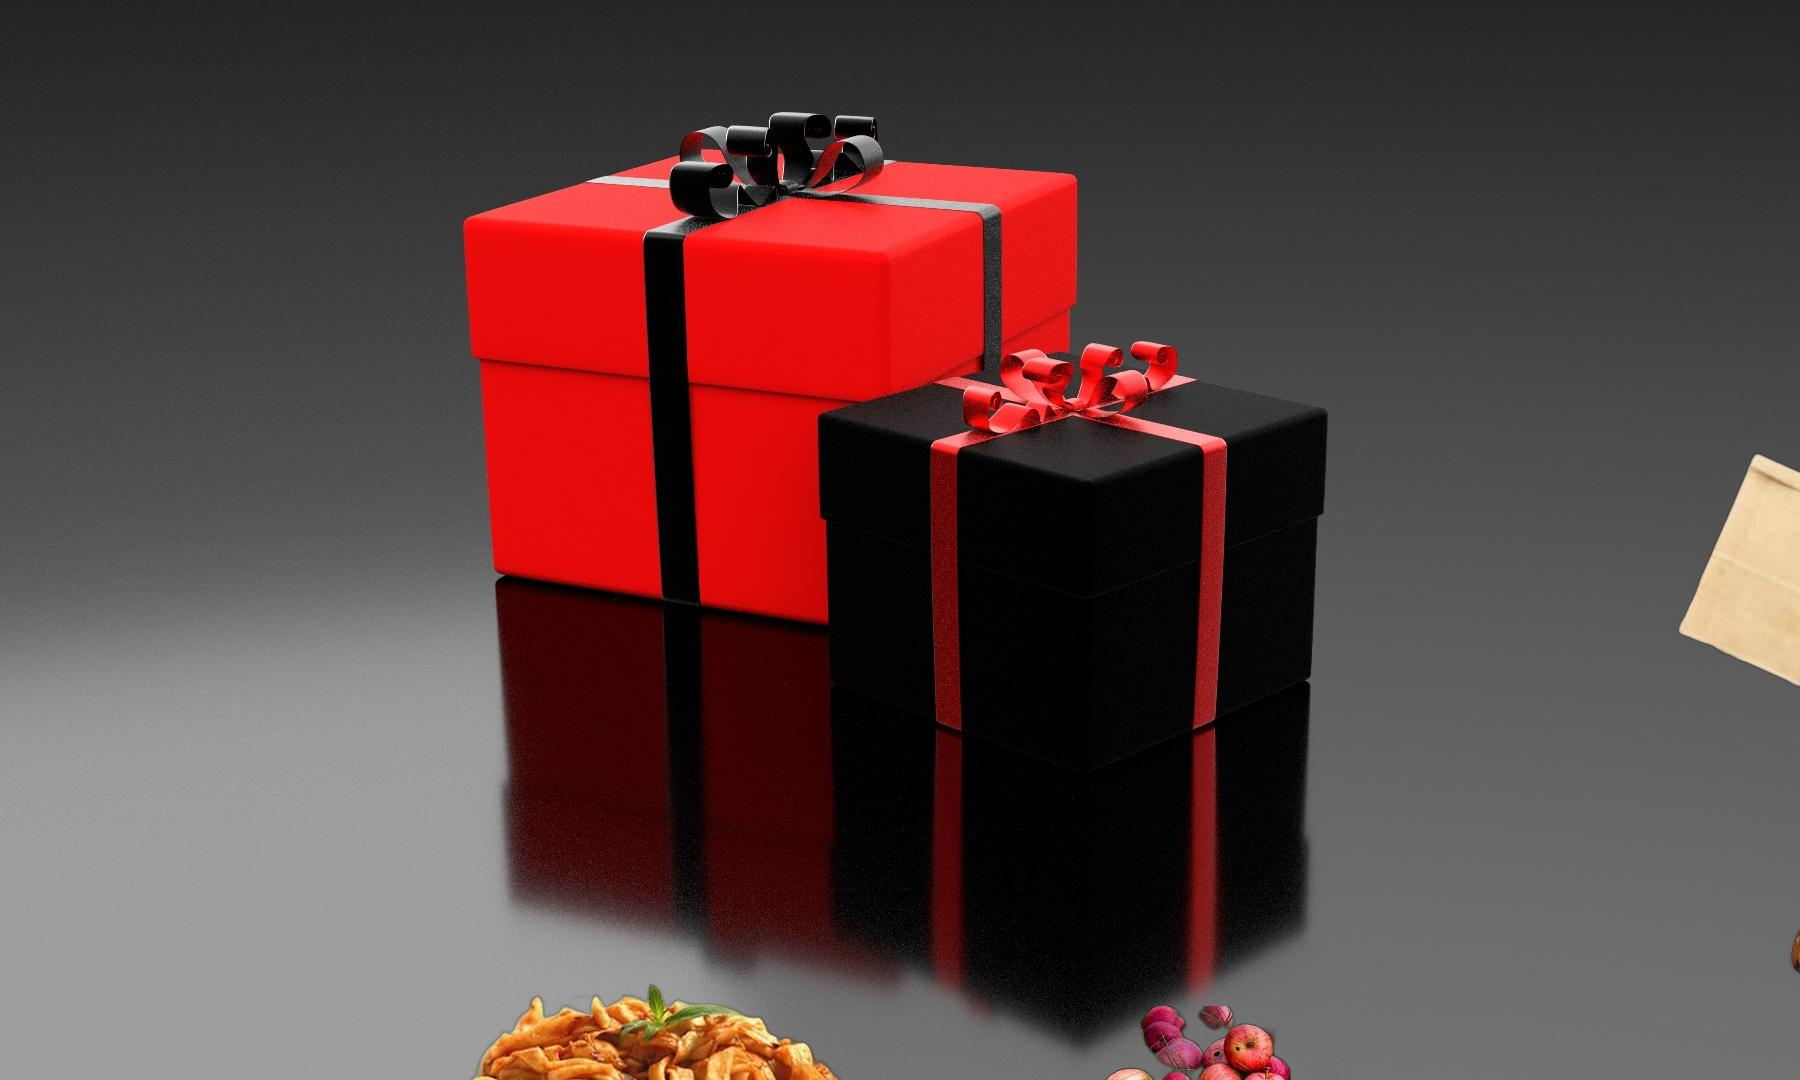biological: (453, 982, 867, 1080), (1099, 1005, 1364, 1080)
glass: (1785, 921, 1800, 1080)
paper-bag: (1675, 451, 1800, 689)
